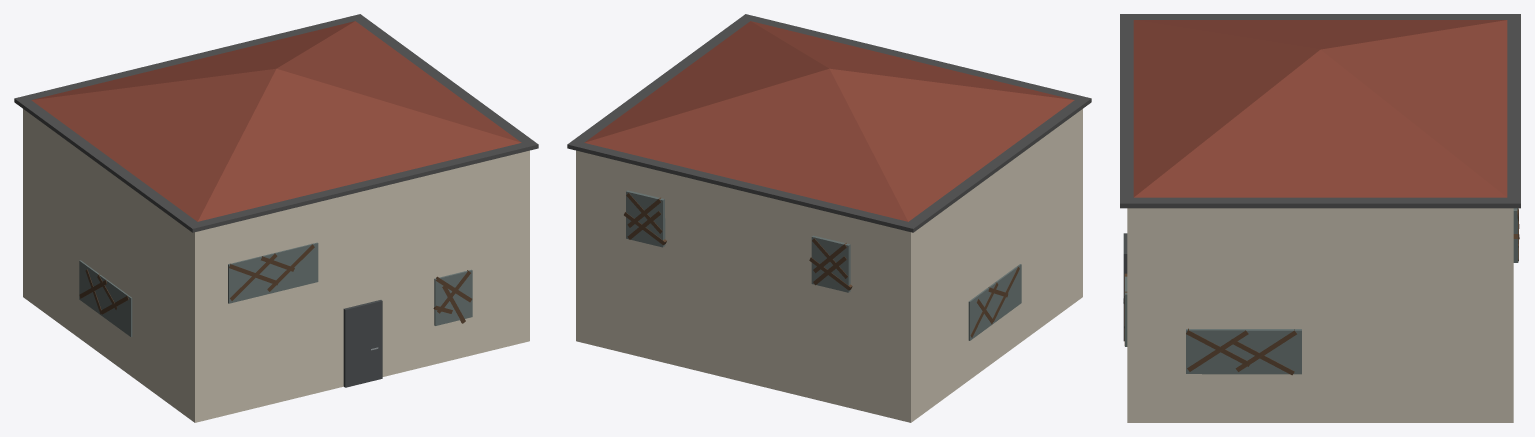
File: wohnhausVar3kleinesdach.glb
3 renders of one model, left to right at view 1: azimuth 30°, elevation 25°; view 2: azimuth 150°, elevation 25°; view 3: azimuth 270°, elevation 25°, orthographic. The views are drawn at different scales.
Parts seen in each view (by area): view 1: Cube.001; view 2: Cube.001; view 3: Cube.001.
Part boxes in pixels (<box>): Cube.001: <box>14,14,538,422</box>; Cube.001: <box>567,14,1091,422</box>; Cube.001: <box>1120,14,1520,422</box>.
Bounding box in the file's own units: 9.3 × 6.43 × 8.3.
